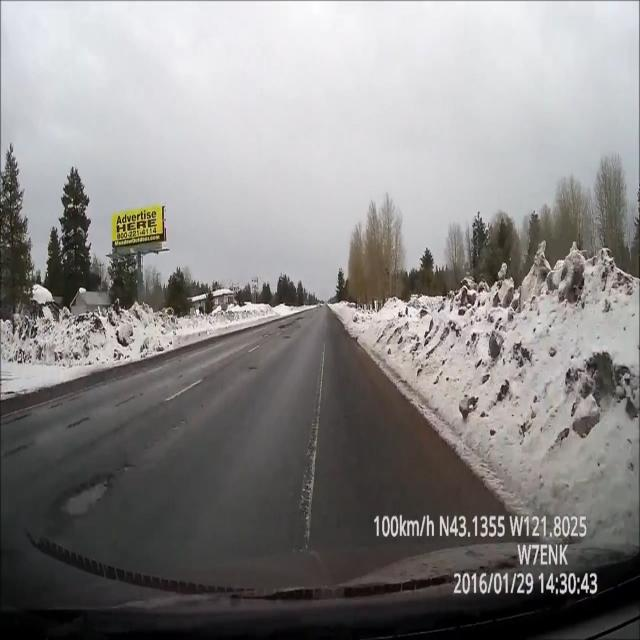Pothole: (62, 455, 136, 527)
